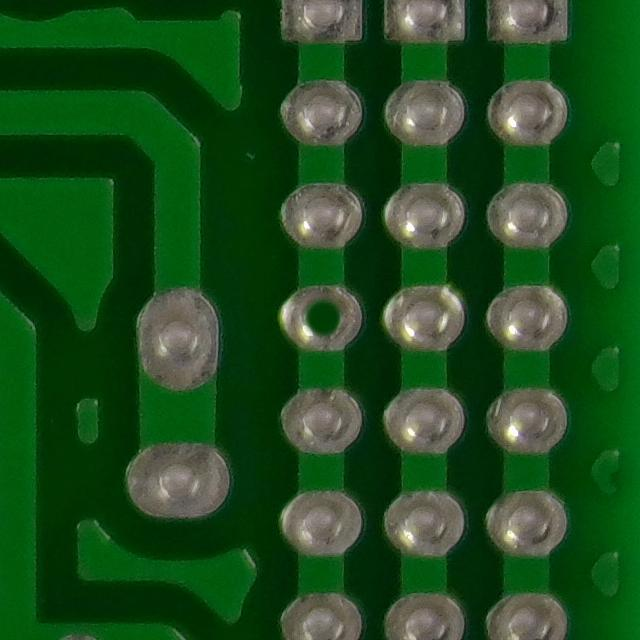missing_hole: (272, 275, 369, 365)
